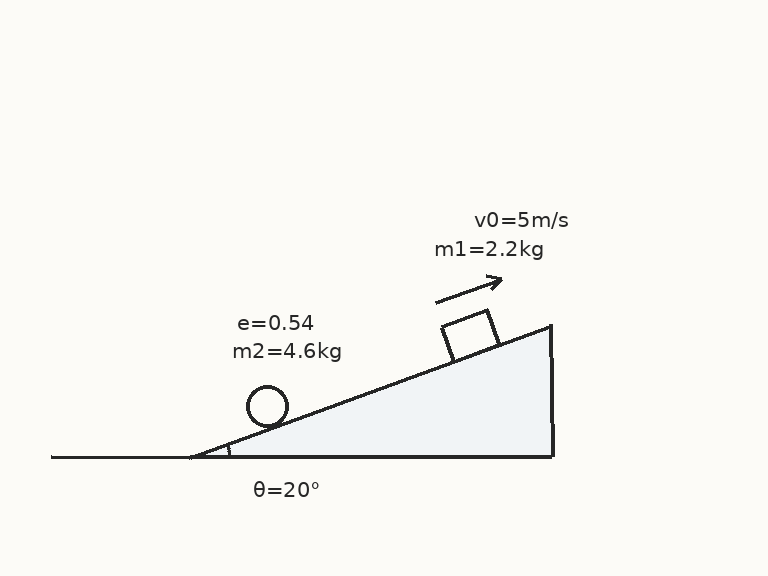ball: (244, 383, 290, 429)
block: (439, 309, 501, 363)
ramp: (187, 323, 553, 459)
